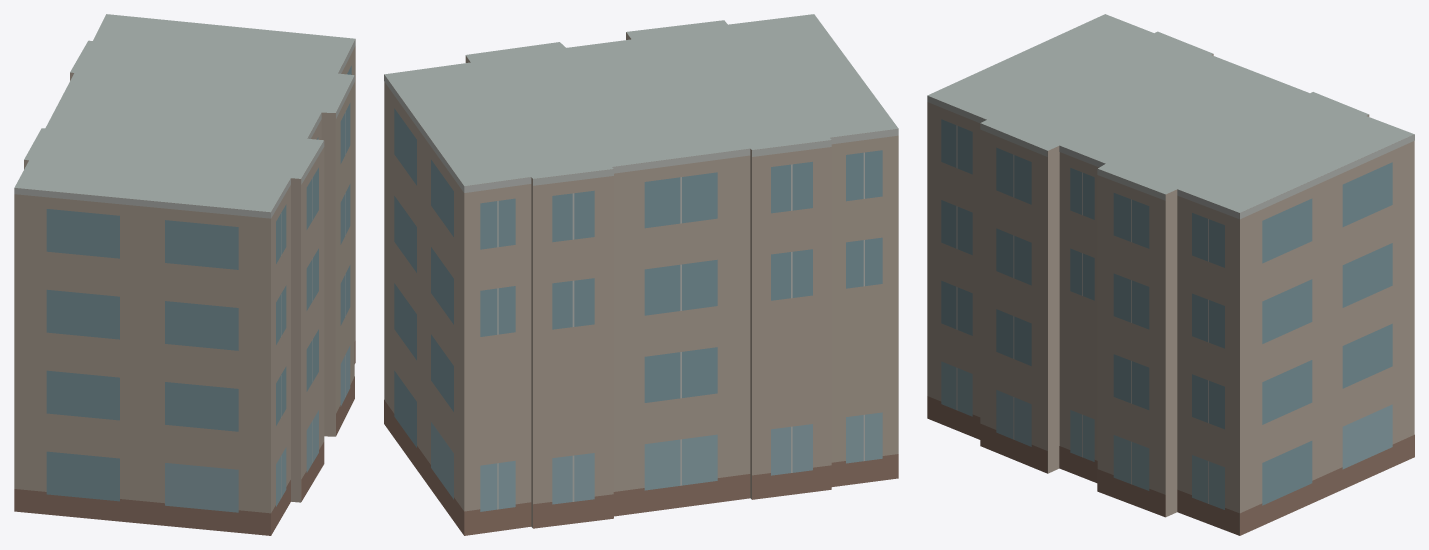
File: survey-upis-32908778.glb
3 views of the same model, side by side, from view 1: azimuth 30°, elevation 25°; view 2: azimuth 150°, elevation 25°; view 3: azimuth 270°, elevation 25° (orthographic). The views are drawn at different scales.
Parts seen in each view (by area): view 1: survey-upis-32908778.tmp; view 2: survey-upis-32908778.tmp; view 3: survey-upis-32908778.tmp.
Boxes of the visible parts, bbox=[...] form: survey-upis-32908778.tmp: bbox=[14, 14, 355, 535]; survey-upis-32908778.tmp: bbox=[384, 14, 898, 535]; survey-upis-32908778.tmp: bbox=[927, 14, 1414, 535].
Size of the model in its own units: 16.33 by 12.35 by 16.91.
